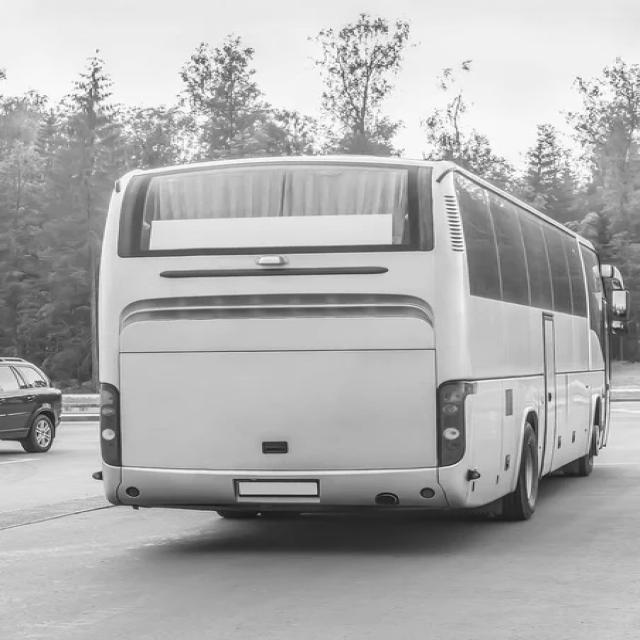Bus: (98, 155, 624, 520)
Car: (0, 358, 59, 452)
